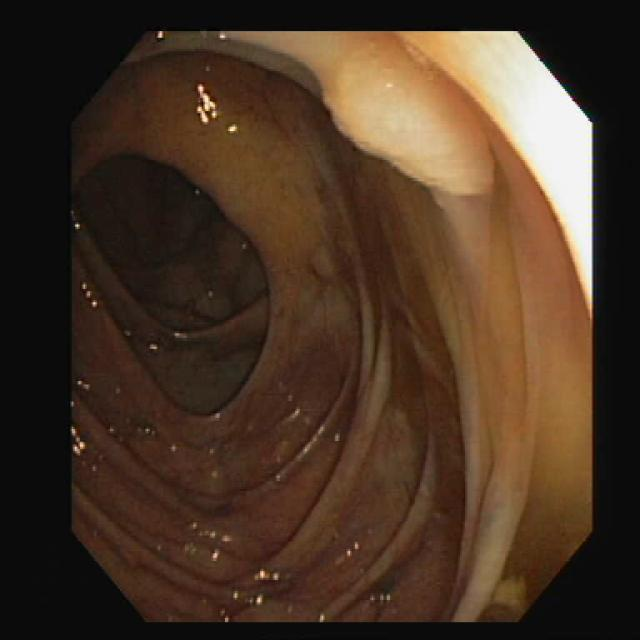tumor: (315, 33, 495, 198)
